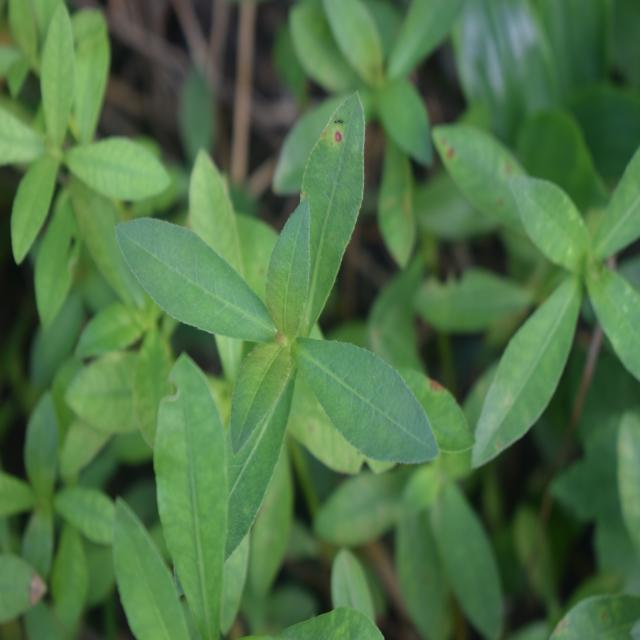Alligatorweed: (125, 122, 447, 518)
